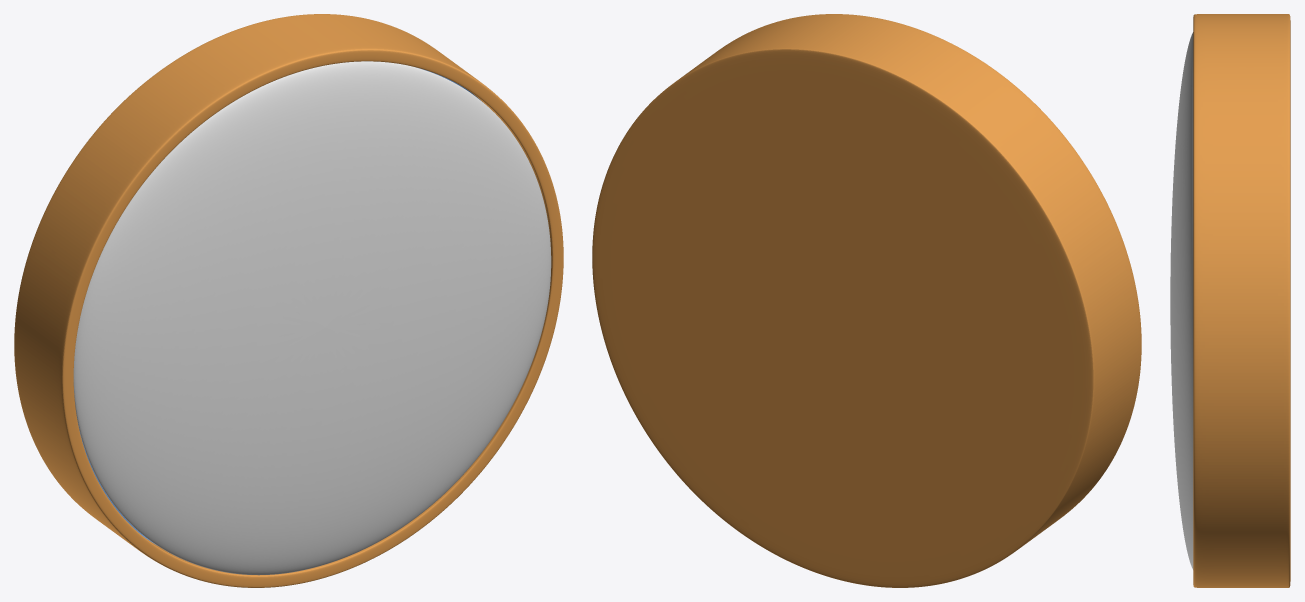
Rendered from clock-transformed.glb.
3 views of the same model, side by side, from view 1: azimuth 30°, elevation 25°; view 2: azimuth 150°, elevation 25°; view 3: azimuth 270°, elevation 25° (orthographic).
Parts seen in each view (by area): view 1: glass, clockShell; view 2: clockShell; view 3: clockShell, glass.
Part boxes in pixels (x1,y1,x2,y2): glass: (73, 61, 551, 575); clockShell: (14, 14, 563, 587); clockShell: (592, 14, 1141, 587); clockShell: (1193, 14, 1290, 587); glass: (1170, 32, 1193, 569).
Size of the model in its own units: 3.87 by 3.87 by 0.8114.
